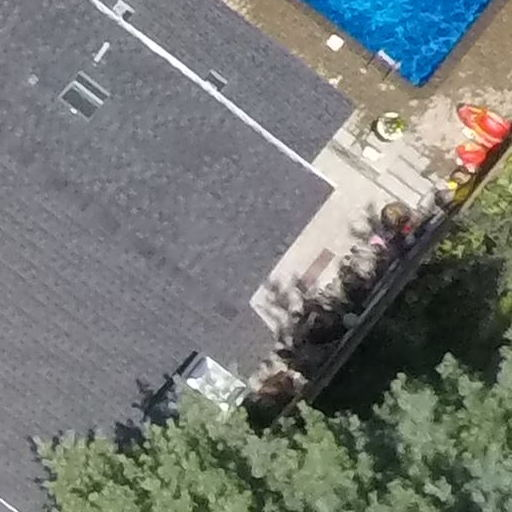pool: (293, 1, 509, 101)
toy: (449, 93, 512, 147)
